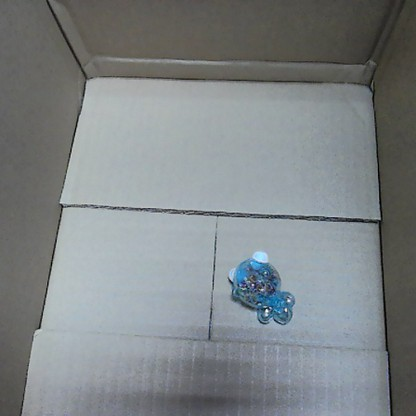bluefish: (221, 248, 299, 330)
